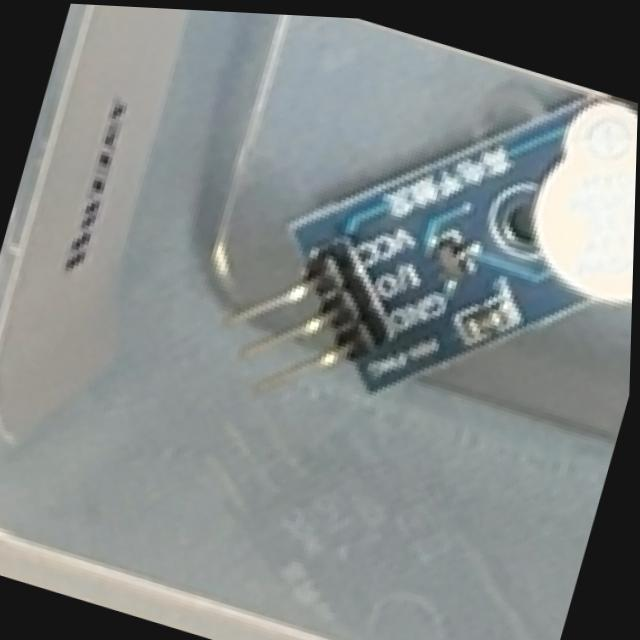Buzzer: (203, 11, 640, 508)
